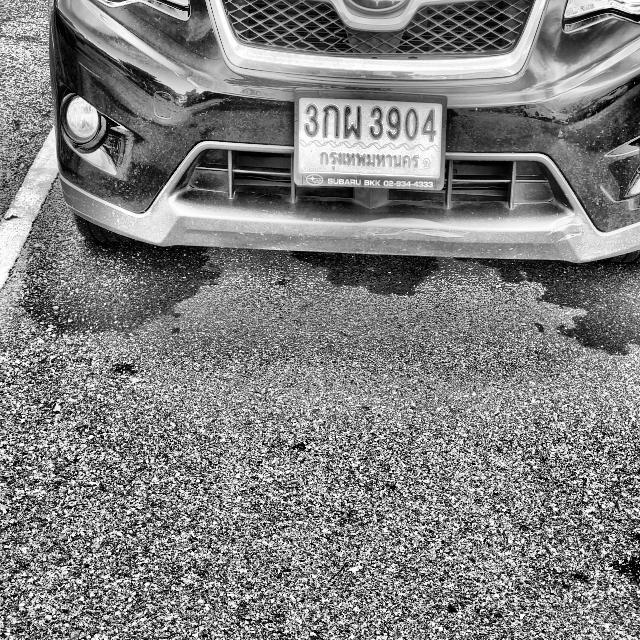license-plate: (292, 87, 444, 191)
